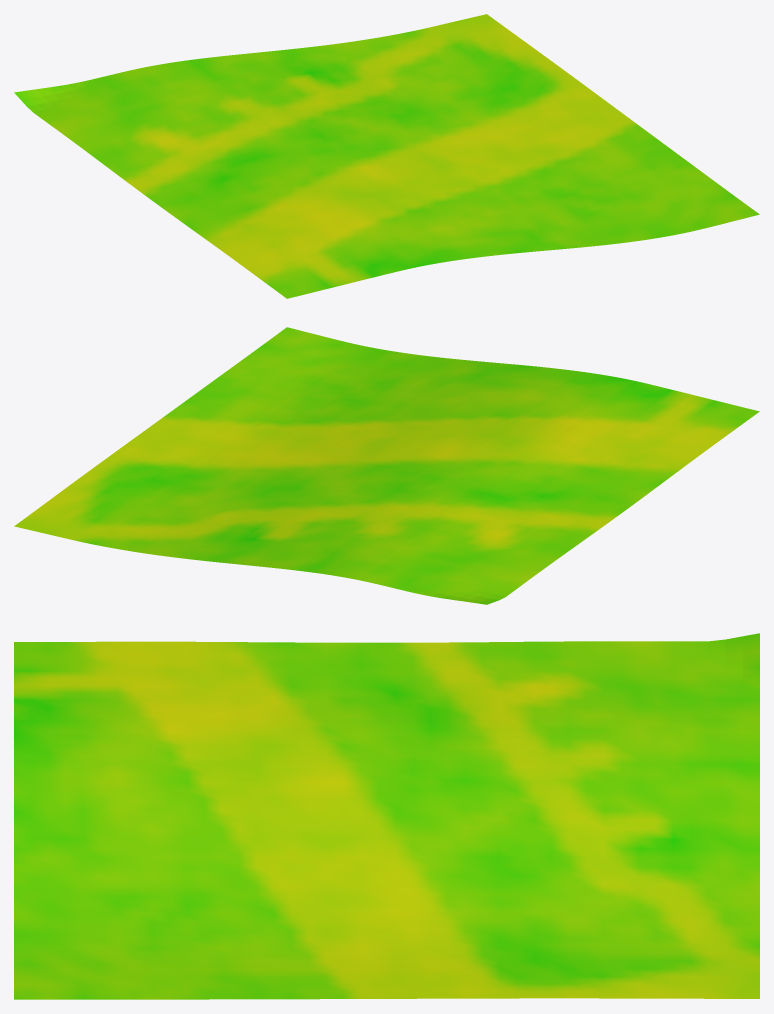
Rendered from terrain_0_0.glb.
The picture shows the model from 3 angles, top to bottom: view 1: azimuth 30°, elevation 25°; view 2: azimuth 150°, elevation 25°; view 3: azimuth 270°, elevation 25°; orthographic projection. The views are drawn at different scales.
Visible parts, largest first — view 1: terrain_0_0; view 2: terrain_0_0; view 3: terrain_0_0.
Part boxes in pixels (bbox=[...]): terrain_0_0: bbox=[14, 14, 759, 298]; terrain_0_0: bbox=[14, 327, 759, 604]; terrain_0_0: bbox=[14, 633, 759, 999].
Size of the model in its own units: 85 by 6.55 by 85.
